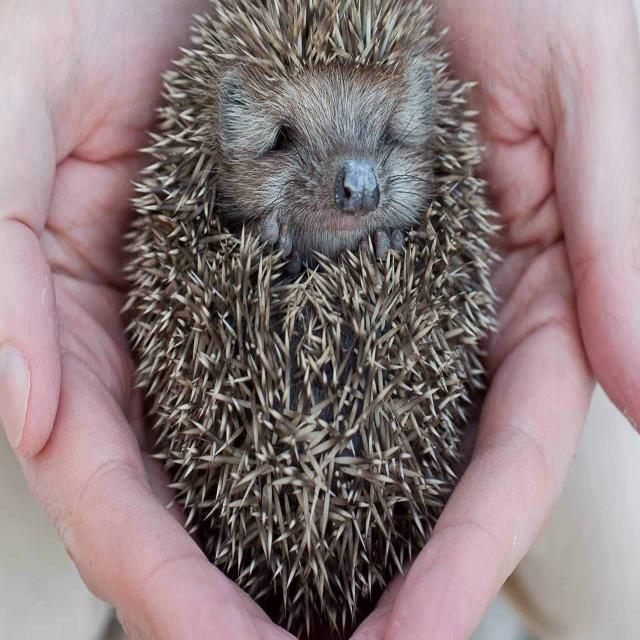Hedgehog: (125, 6, 505, 636)
